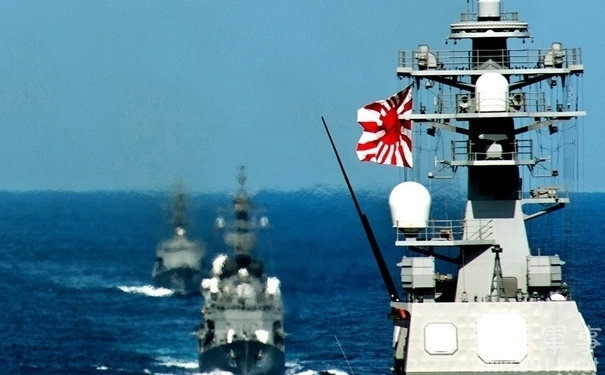warship: (359, 5, 599, 375), (195, 166, 301, 374), (149, 179, 206, 300)
